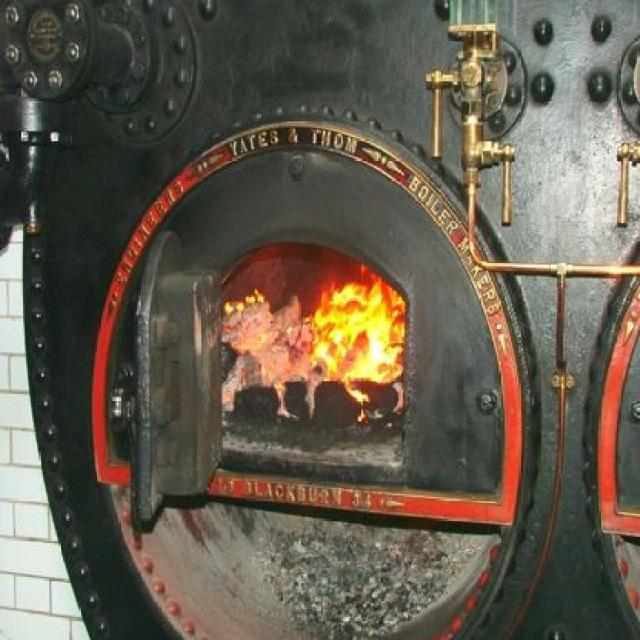Fire: (308, 229, 418, 412)
